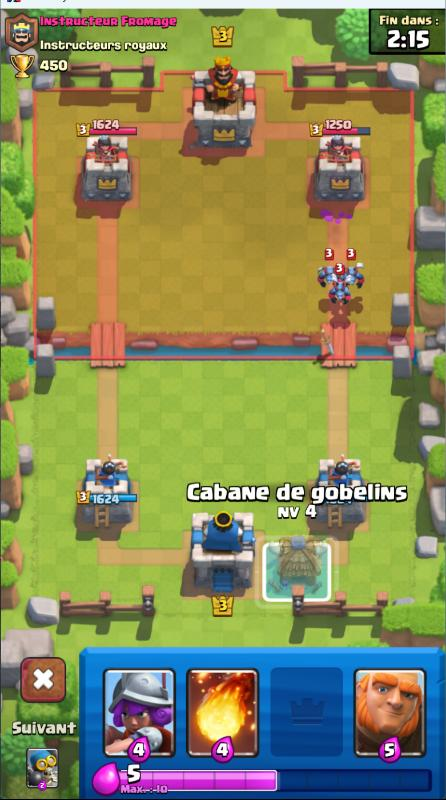gargouille: (329, 277, 354, 304), (319, 263, 340, 295), (343, 262, 363, 292)
